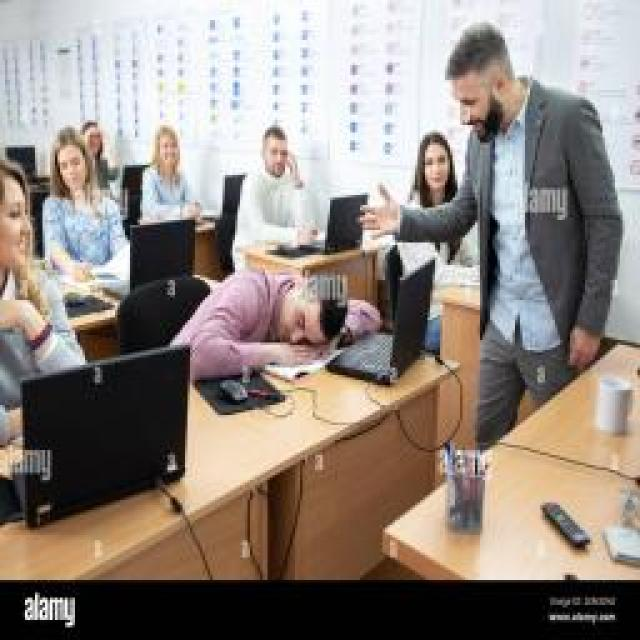sleep: (160, 265, 380, 377)
